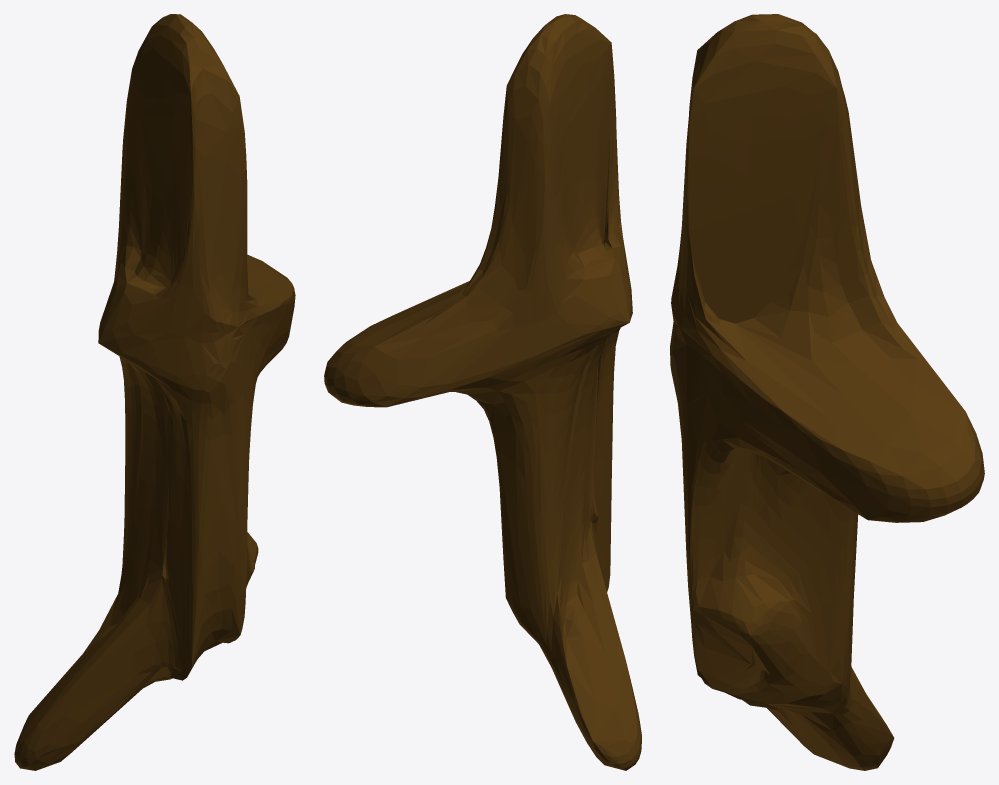
3 views of the same model, side by side, from view 1: azimuth 30°, elevation 25°; view 2: azimuth 150°, elevation 25°; view 3: azimuth 270°, elevation 25° (orthographic). The views are drawn at different scales.
Parts seen in each view (by area): view 1: 592_Cube.2380; view 2: 592_Cube.2380; view 3: 592_Cube.2380.
Boxes of the visible parts, left/top/right/bottom form: 592_Cube.2380: left=14, top=14, right=295, bottom=770; 592_Cube.2380: left=324, top=14, right=641, bottom=770; 592_Cube.2380: left=670, top=14, right=984, bottom=770.
Size of the model in its own units: 5.66 by 13.69 by 4.8.
